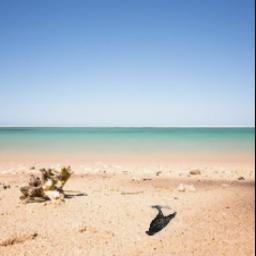Crow: (146, 206, 178, 237)
